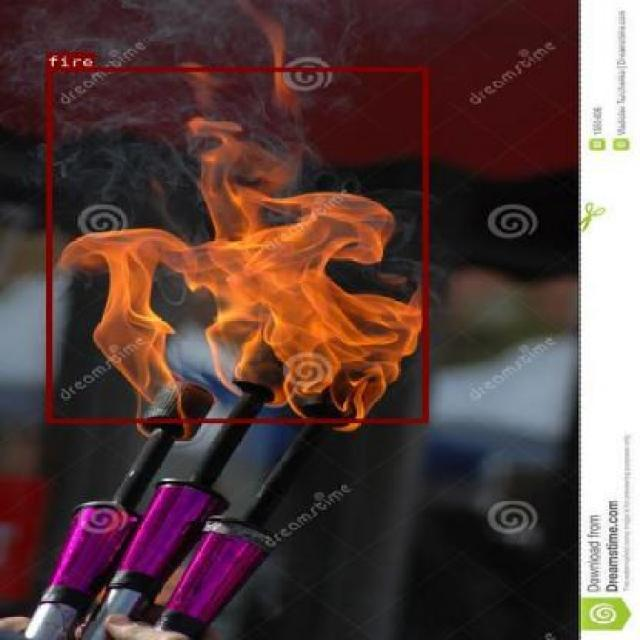fire: (46, 67, 426, 422)
